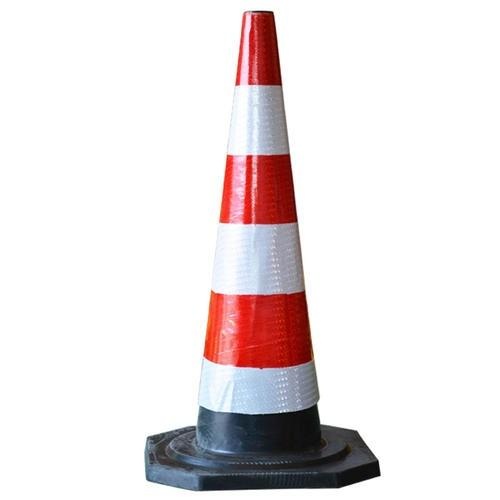cone_barrel: (158, 14, 350, 471)
